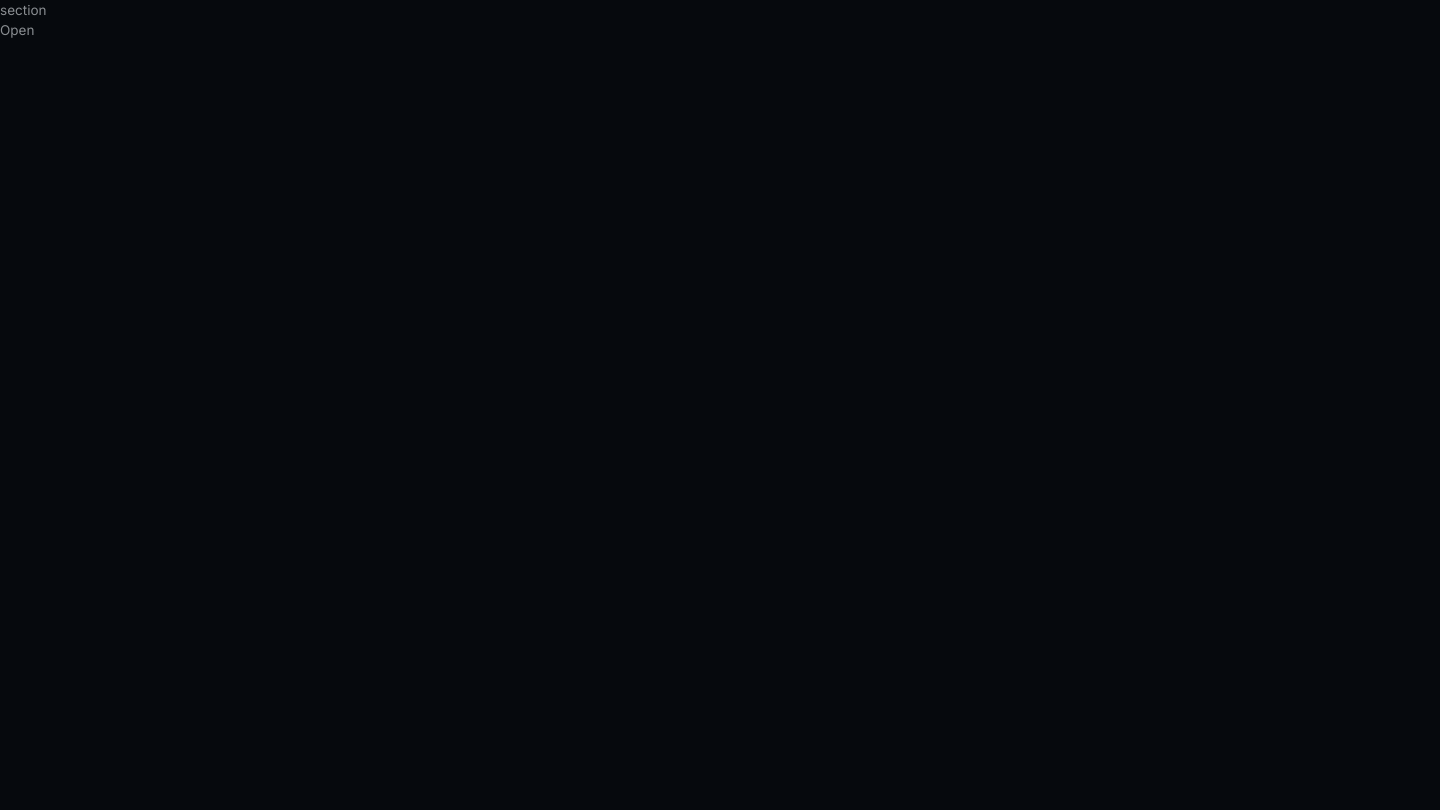
Test: Settings command palette active row › rings the keyboard-active row with the focus ring, as the app palette does
Step 1. Press k
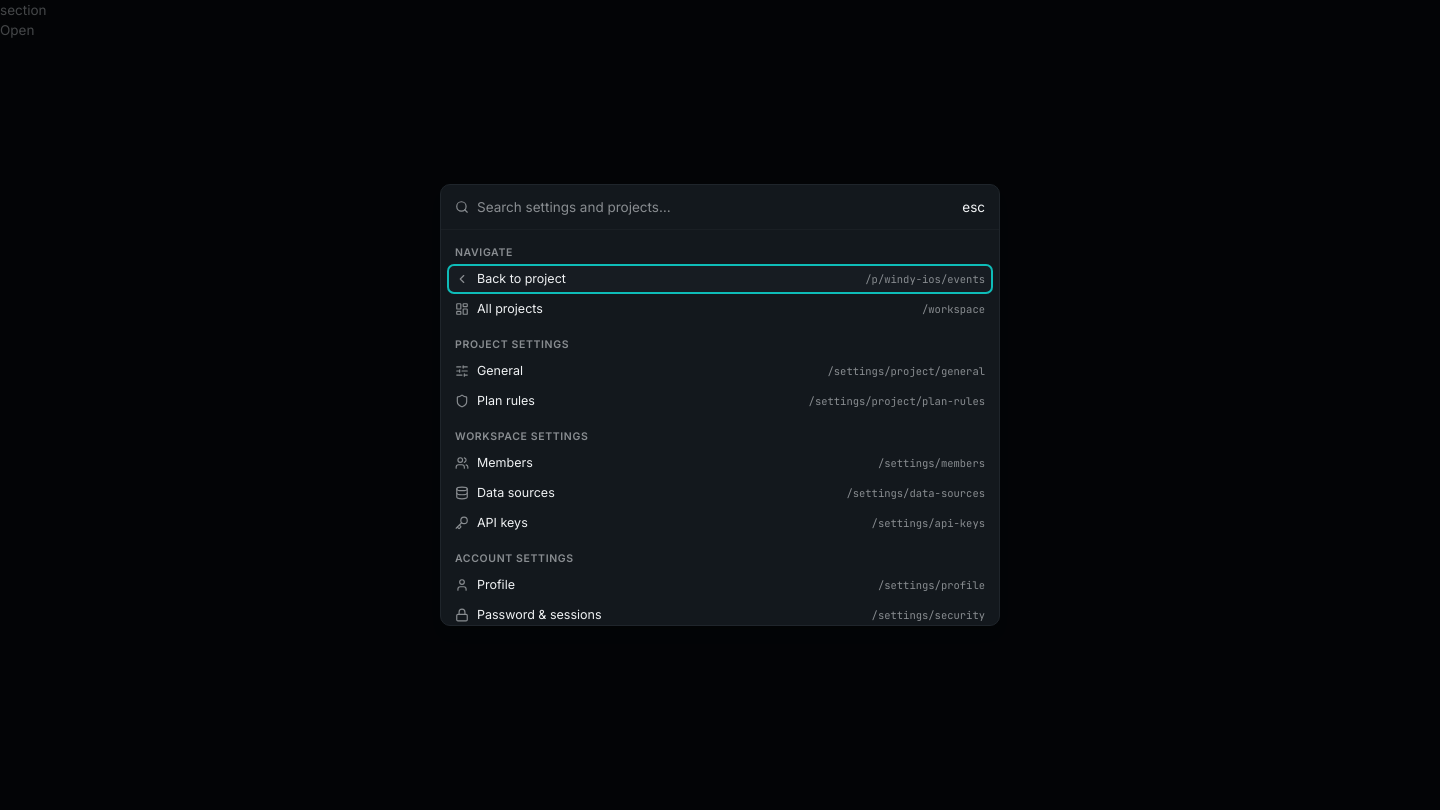
Step 2. Type "storage" into the dropdown → (716, 207), box [477, 197, 954, 217]
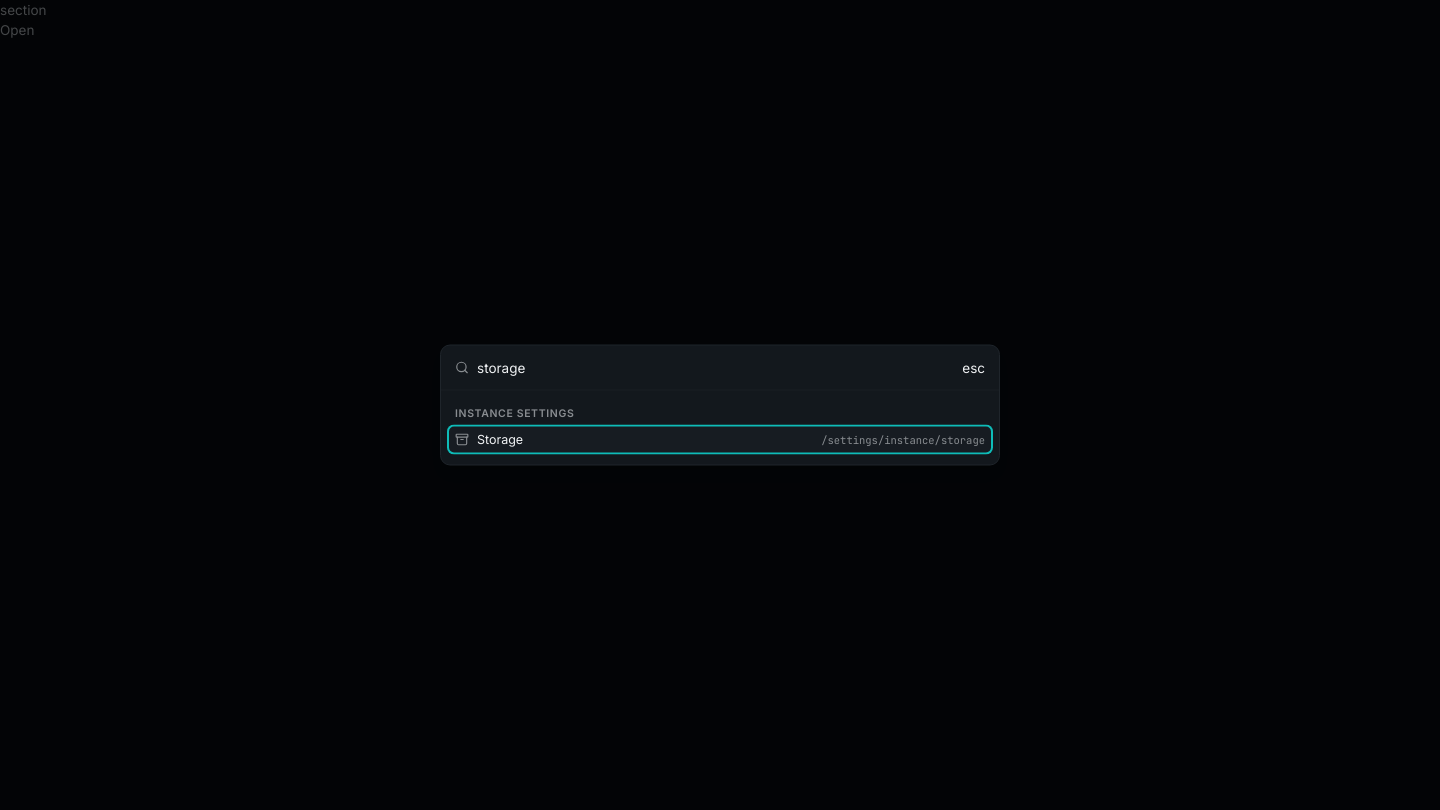
expect the option "Storage /settings/instance/storage" is shown: met, box [447, 424, 993, 454]
